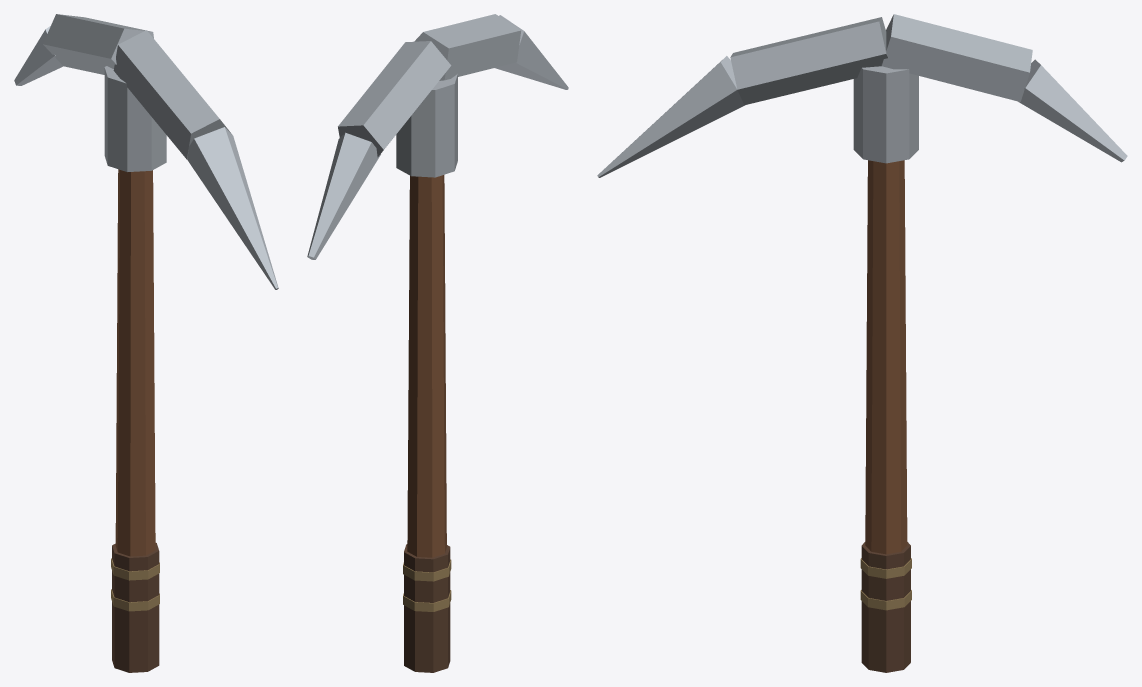
Rendered from tool_pick_iron.glb.
3 renders of one model, left to right at view 1: azimuth 30°, elevation 25°; view 2: azimuth 150°, elevation 25°; view 3: azimuth 270°, elevation 25°, orthographic. The views are drawn at different scales.
Parts seen in each view (by area): view 1: tool_pick_iron; view 2: tool_pick_iron; view 3: tool_pick_iron.
Part boxes in pixels (x1,y1,x2,y2): tool_pick_iron: (14,14,278,672); tool_pick_iron: (307,14,568,672); tool_pick_iron: (597,14,1127,672).
Size of the model in its own units: 0.066 by 0.7166 by 0.5344.
